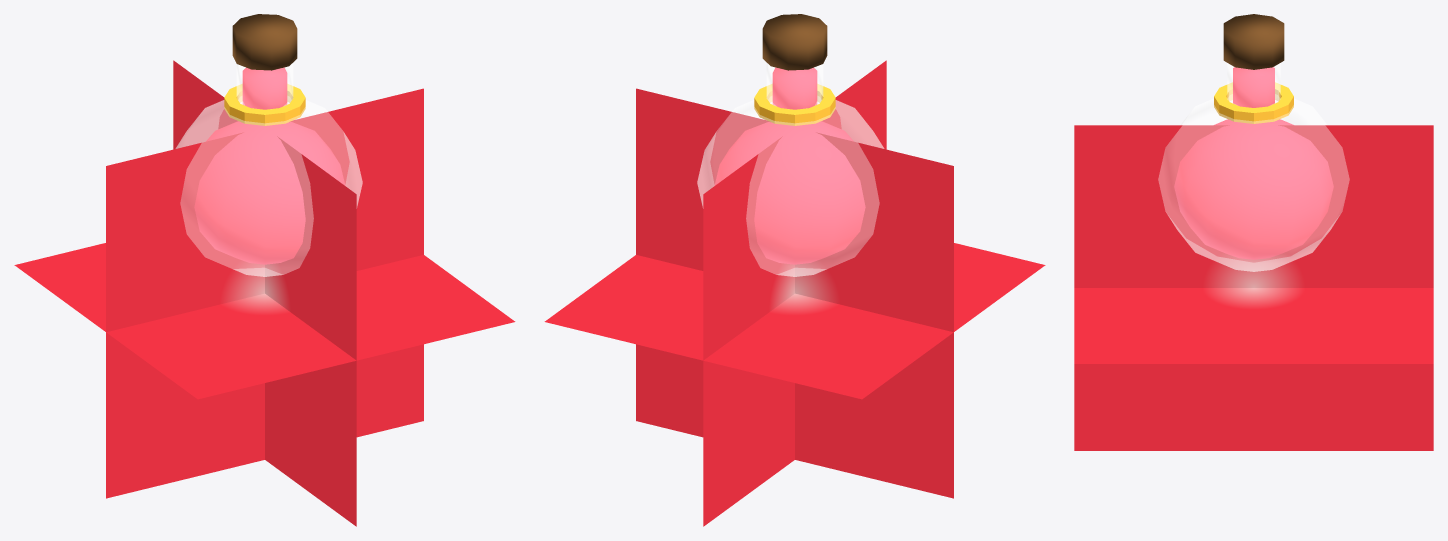
The model's file is pot_hp.glb.
3 renders of one model, left to right at view 1: azimuth 30°, elevation 25°; view 2: azimuth 150°, elevation 25°; view 3: azimuth 270°, elevation 25°, orthographic. The views are drawn at different scales.
Parts seen in each view (by area): view 1: fx_pot_hp_glow, fx_pot_hp_glass, fx_pot_hp_liquid, fx_pot_hp_cork, fx_pot_hp_gold; view 2: fx_pot_hp_glow, fx_pot_hp_glass, fx_pot_hp_liquid, fx_pot_hp_cork, fx_pot_hp_gold; view 3: fx_pot_hp_glow, fx_pot_hp_glass, fx_pot_hp_liquid, fx_pot_hp_cork, fx_pot_hp_gold.
Boxes of the visible parts, left/top/right/bottom form: fx_pot_hp_glow: left=14, top=60, right=515, bottom=526; fx_pot_hp_glass: left=175, top=63, right=362, bottom=276; fx_pot_hp_liquid: left=194, top=67, right=345, bottom=264; fx_pot_hp_cork: left=232, top=14, right=297, bottom=70; fx_pot_hp_gold: left=224, top=84, right=305, bottom=125; fx_pot_hp_glow: left=544, top=60, right=1045, bottom=526; fx_pot_hp_glass: left=697, top=63, right=884, bottom=276; fx_pot_hp_liquid: left=714, top=67, right=865, bottom=264; fx_pot_hp_cork: left=762, top=14, right=827, bottom=70; fx_pot_hp_gold: left=754, top=84, right=835, bottom=125; fx_pot_hp_glow: left=1074, top=125, right=1433, bottom=450; fx_pot_hp_glass: left=1158, top=63, right=1349, bottom=271; fx_pot_hp_liquid: left=1174, top=67, right=1333, bottom=259; fx_pot_hp_cork: left=1223, top=14, right=1284, bottom=69; fx_pot_hp_gold: left=1214, top=82, right=1293, bottom=123.
Bounding box in the file's own units: 0.9 × 1.17 × 0.9.
Materials: 5 (1 with a texture image).
